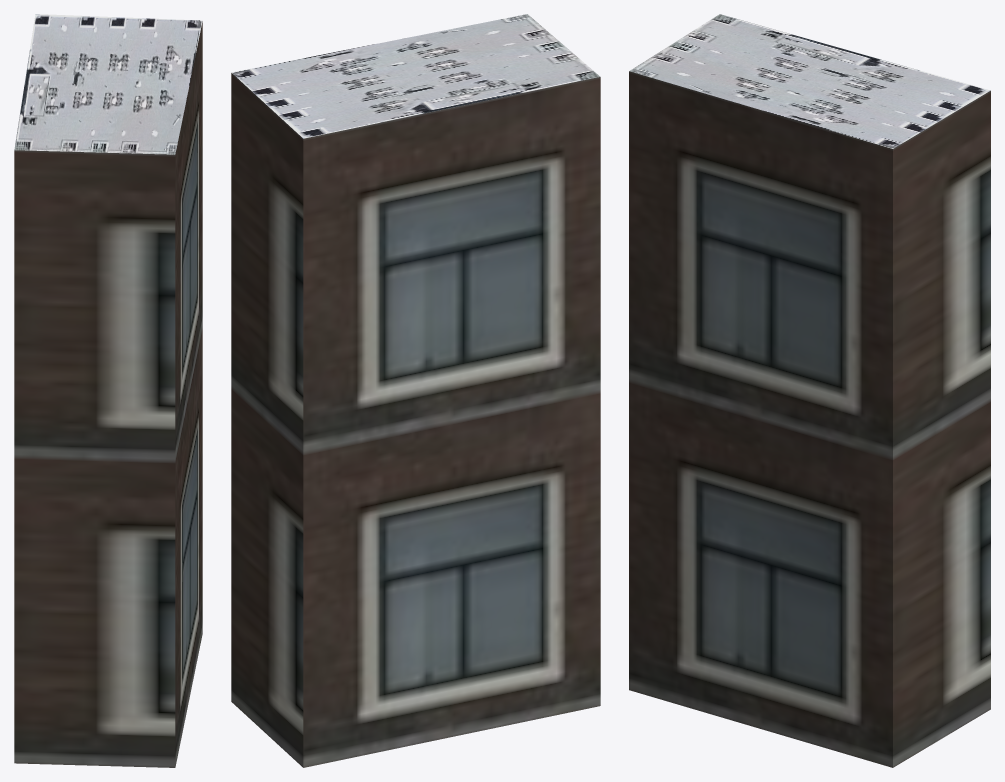
Rendered from ResTex__2976.fbx.
The picture shows the model from 3 angles, left to right: view 1: azimuth 30°, elevation 25°; view 2: azimuth 150°, elevation 25°; view 3: azimuth 270°, elevation 25°; orthographic projection. The views are drawn at different scales.
Parts seen in each view (by area): view 1: CityEngineMaterial_16_m, CityEngineMaterial_15_m; view 2: CityEngineMaterial_16_m, CityEngineMaterial_15_m; view 3: CityEngineMaterial_16_m, CityEngineMaterial_15_m.
Part boxes in pixels (box(x1,y1,x2,y2)): CityEngineMaterial_16_m: box(14, 21, 202, 767); CityEngineMaterial_15_m: box(14, 14, 202, 154); CityEngineMaterial_16_m: box(231, 73, 600, 767); CityEngineMaterial_15_m: box(232, 14, 600, 138); CityEngineMaterial_16_m: box(629, 71, 990, 767); CityEngineMaterial_15_m: box(629, 14, 990, 148).
Size of the model in its own units: 2.81 by 6 by 3.18.
2 materials, 2 textured.
